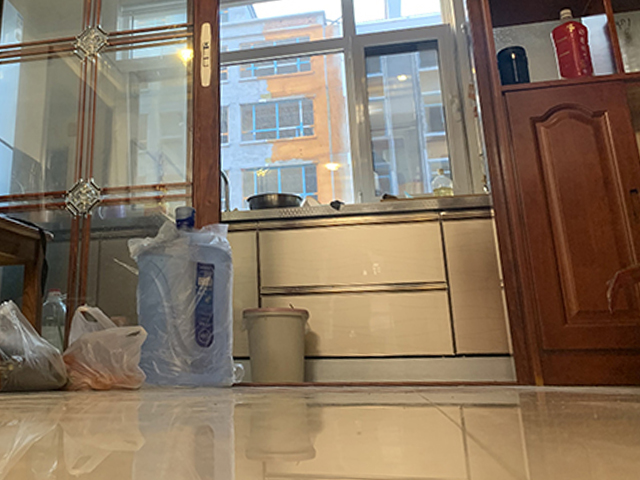cabinet: (231, 194, 512, 381)
trashcan: (243, 306, 311, 383)
